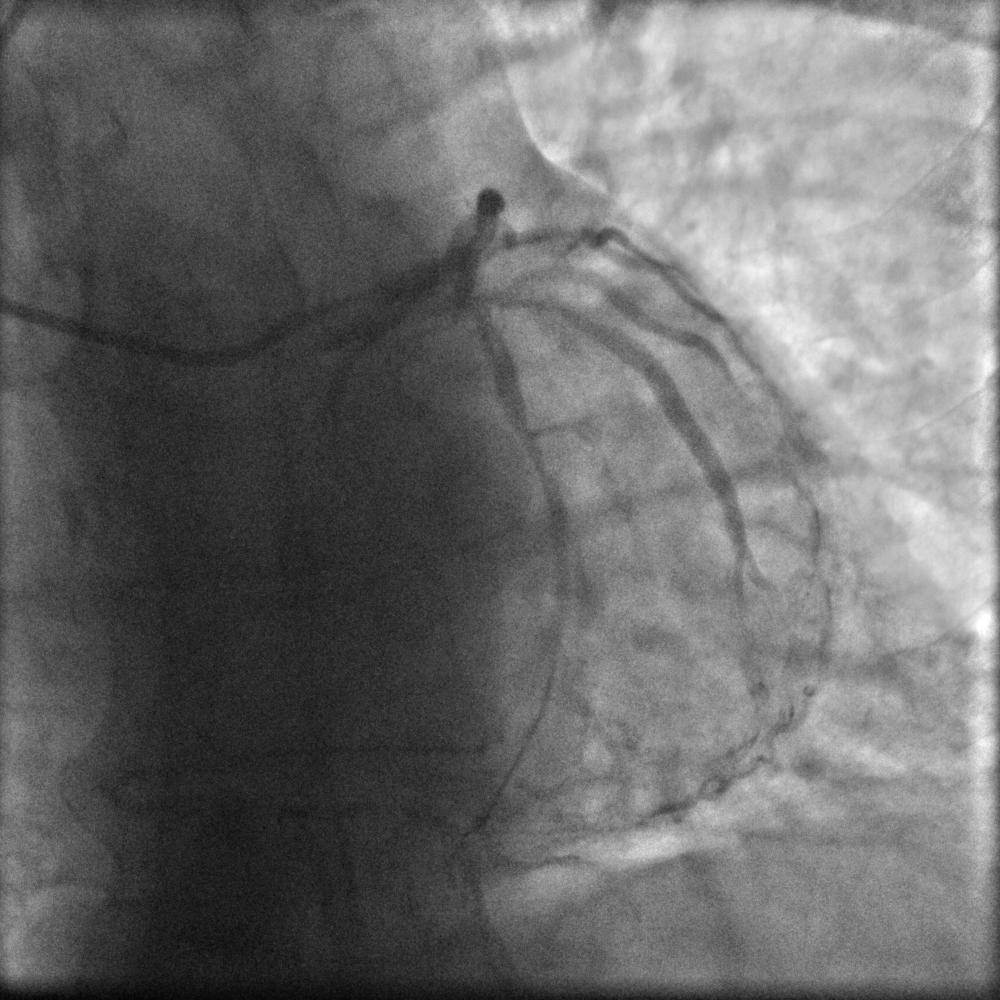Stenosis: (514, 415, 560, 513)
